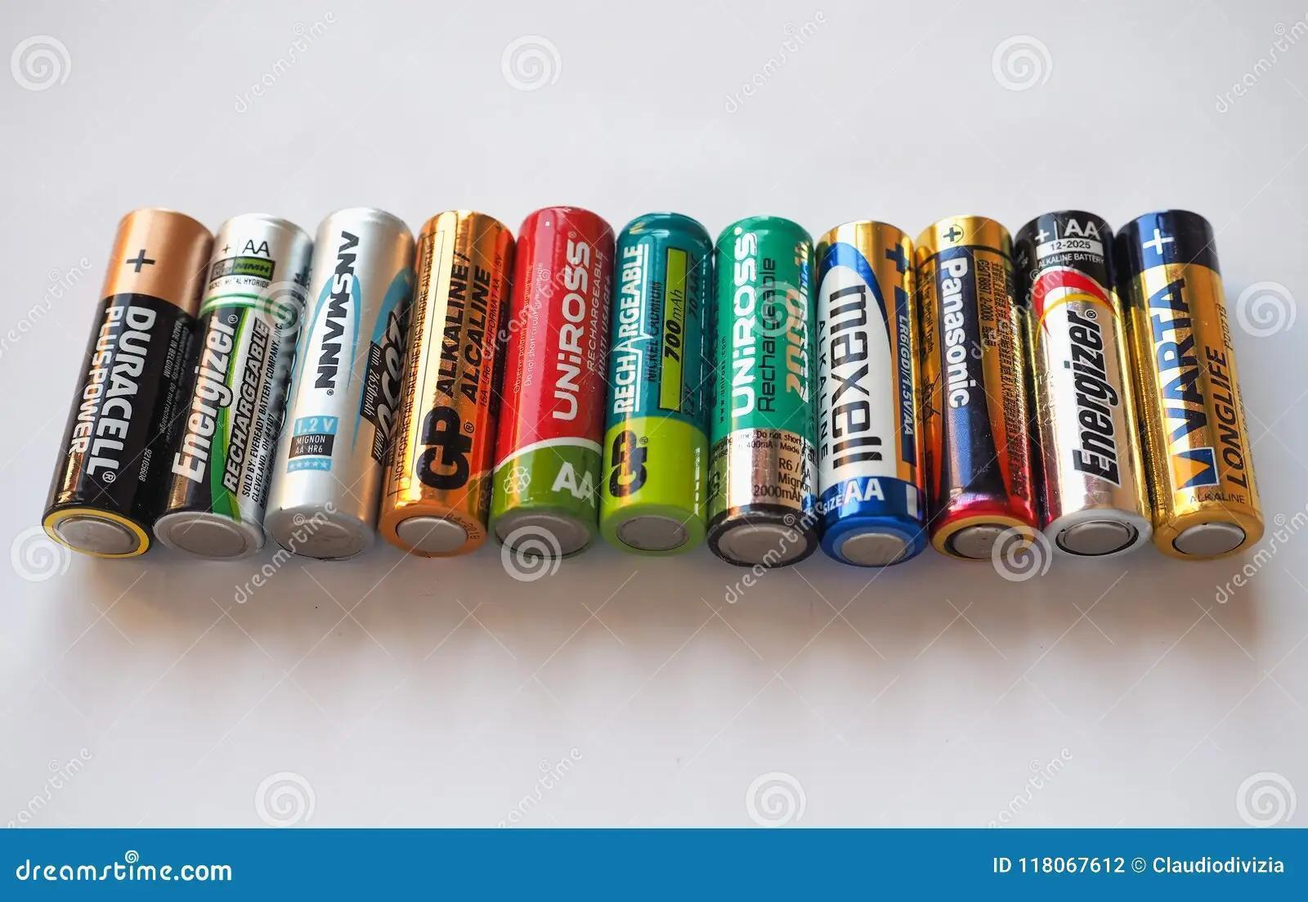AA: (35, 205, 217, 567), (147, 206, 318, 570), (1116, 204, 1273, 574), (261, 200, 419, 567), (1012, 203, 1159, 575), (374, 205, 519, 566), (914, 205, 1047, 575), (486, 201, 618, 566), (816, 211, 931, 576), (599, 206, 715, 564), (710, 209, 821, 575)
